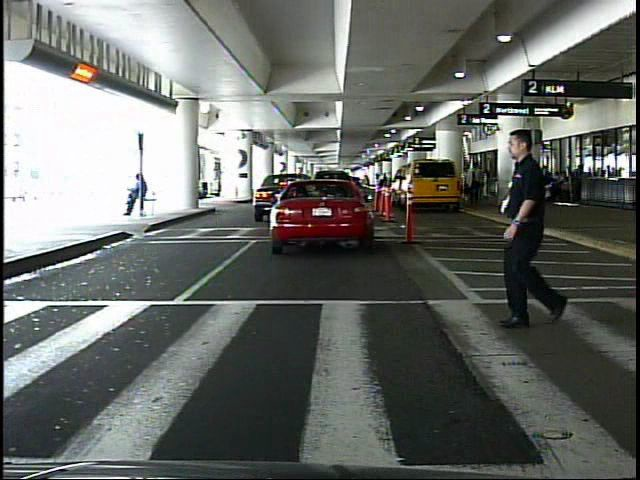person: (496, 131, 582, 334)
